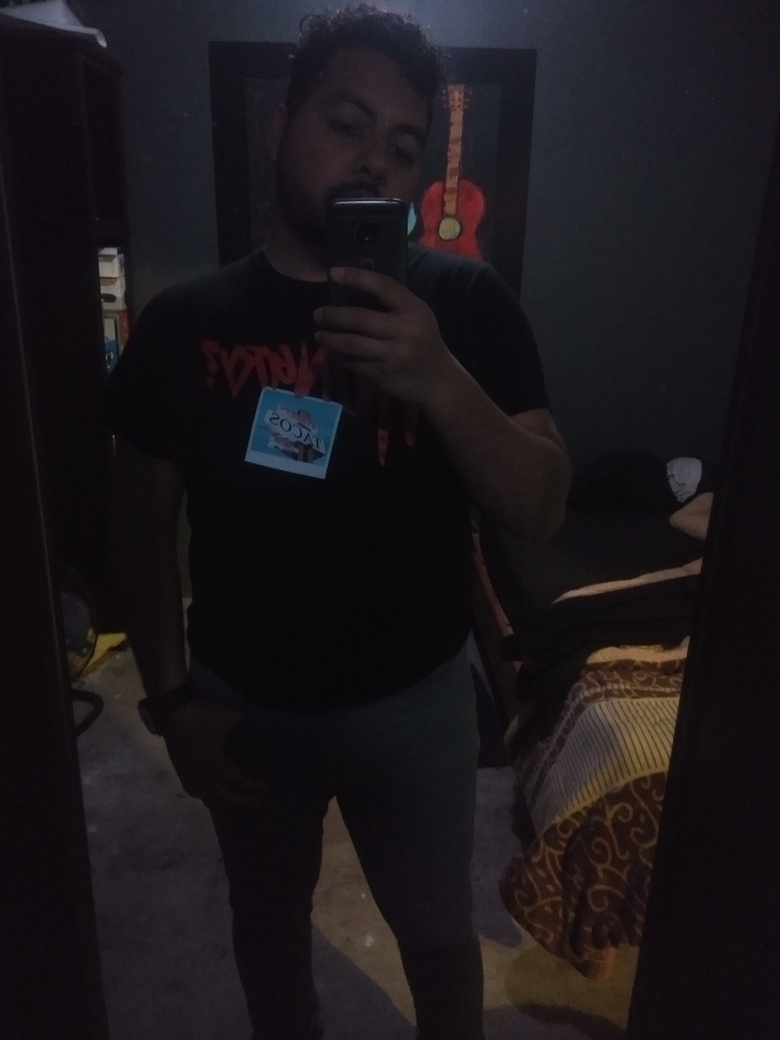Yoshi: (225, 6, 497, 257)
